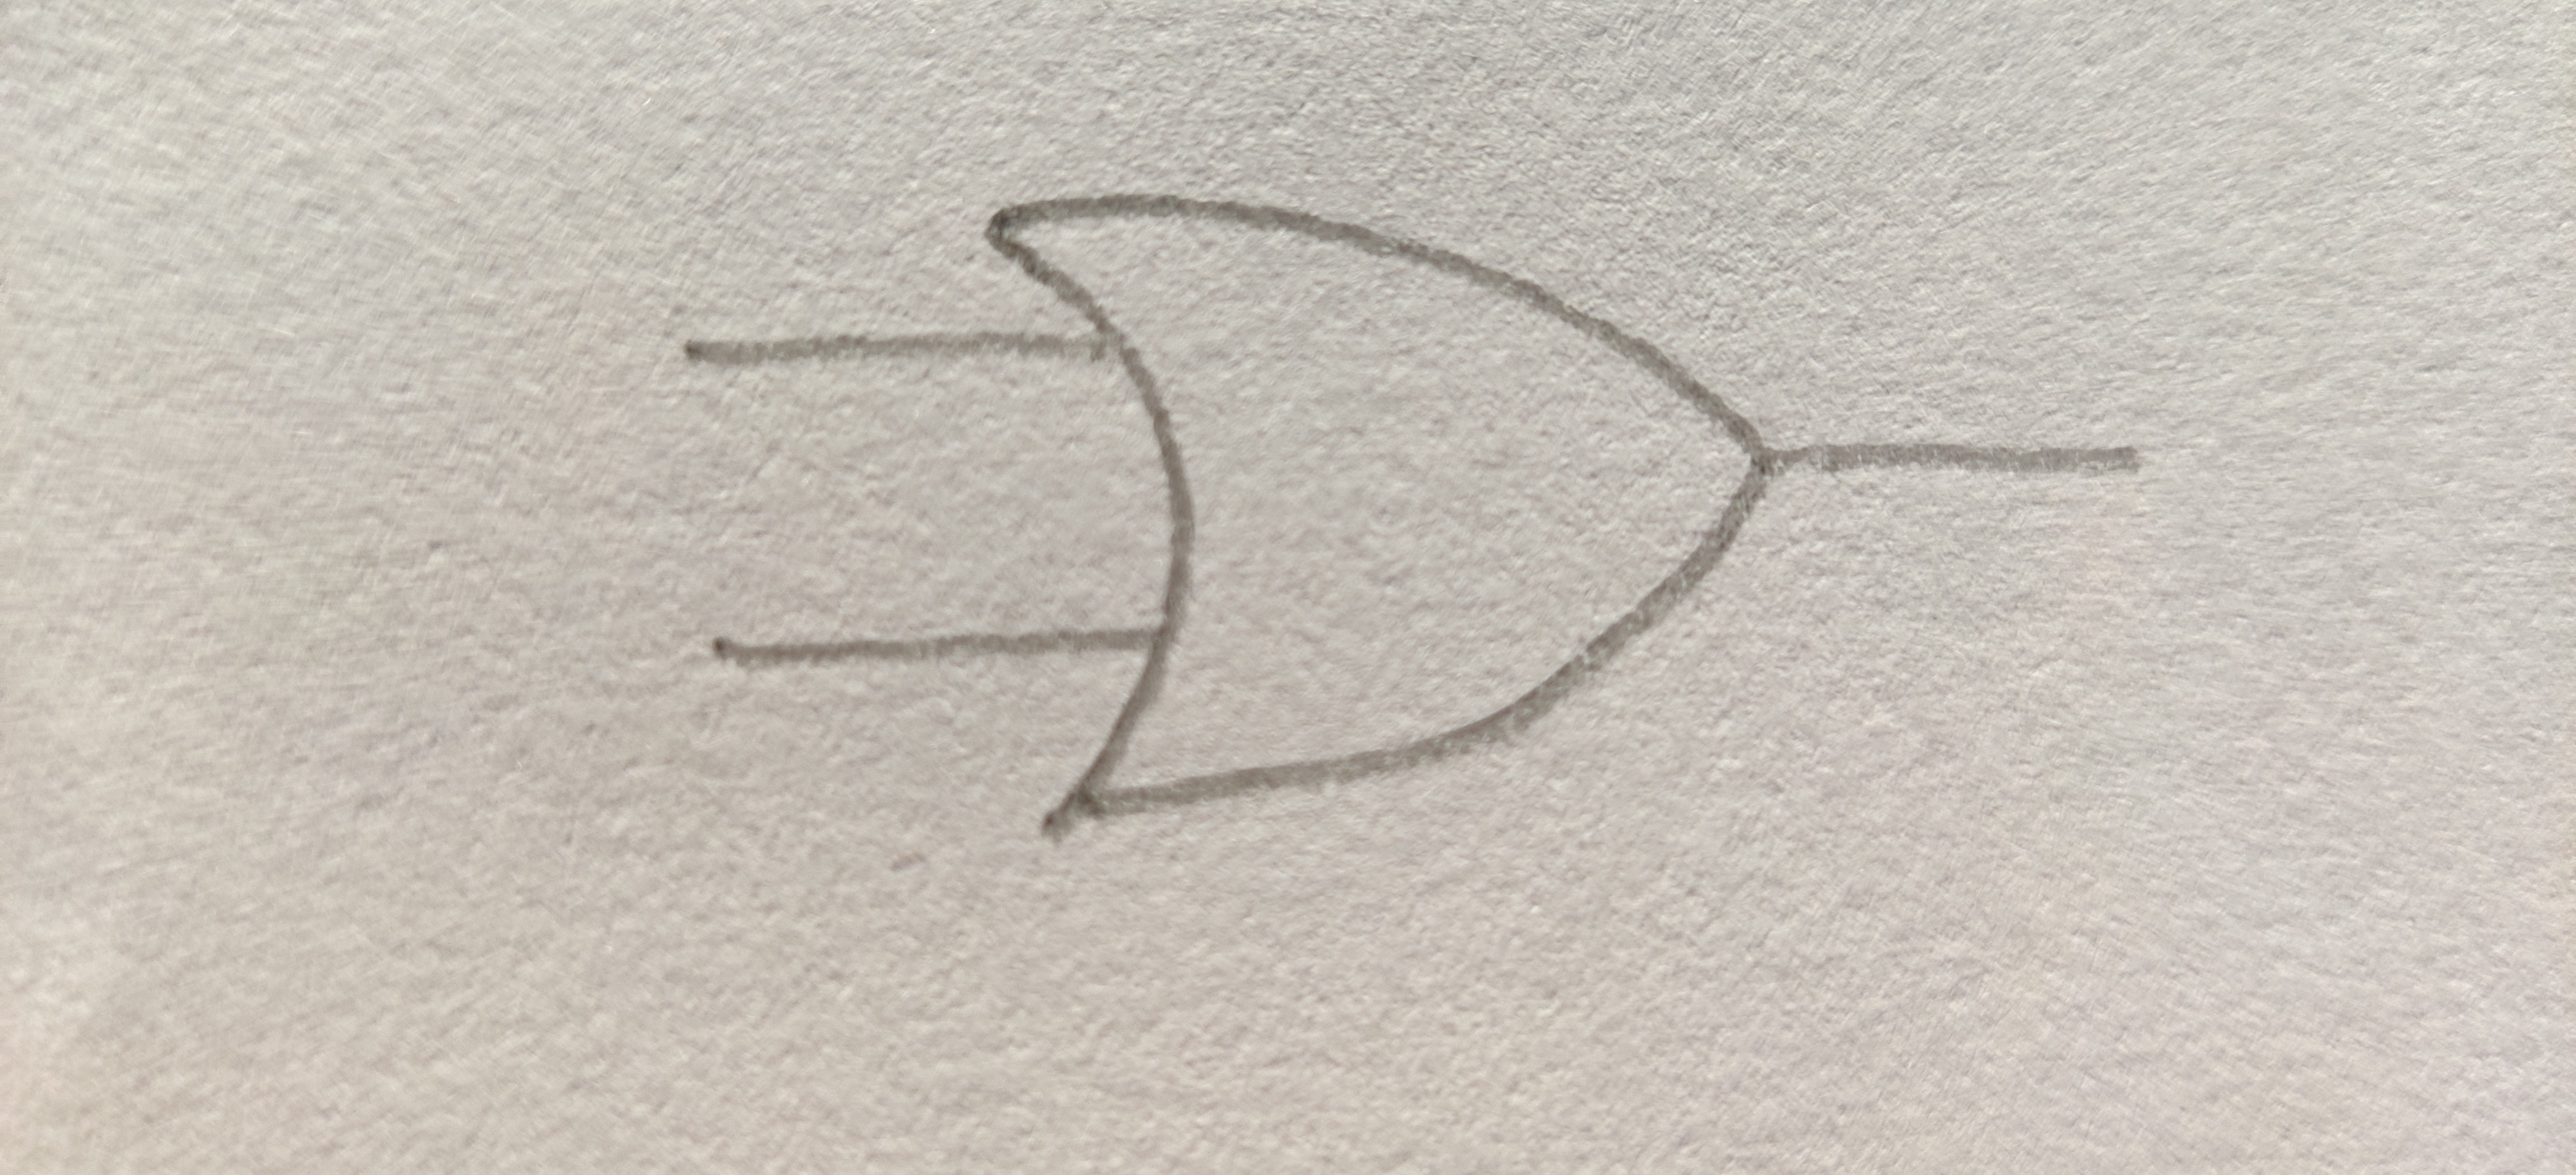or: (991, 196, 1773, 813)
